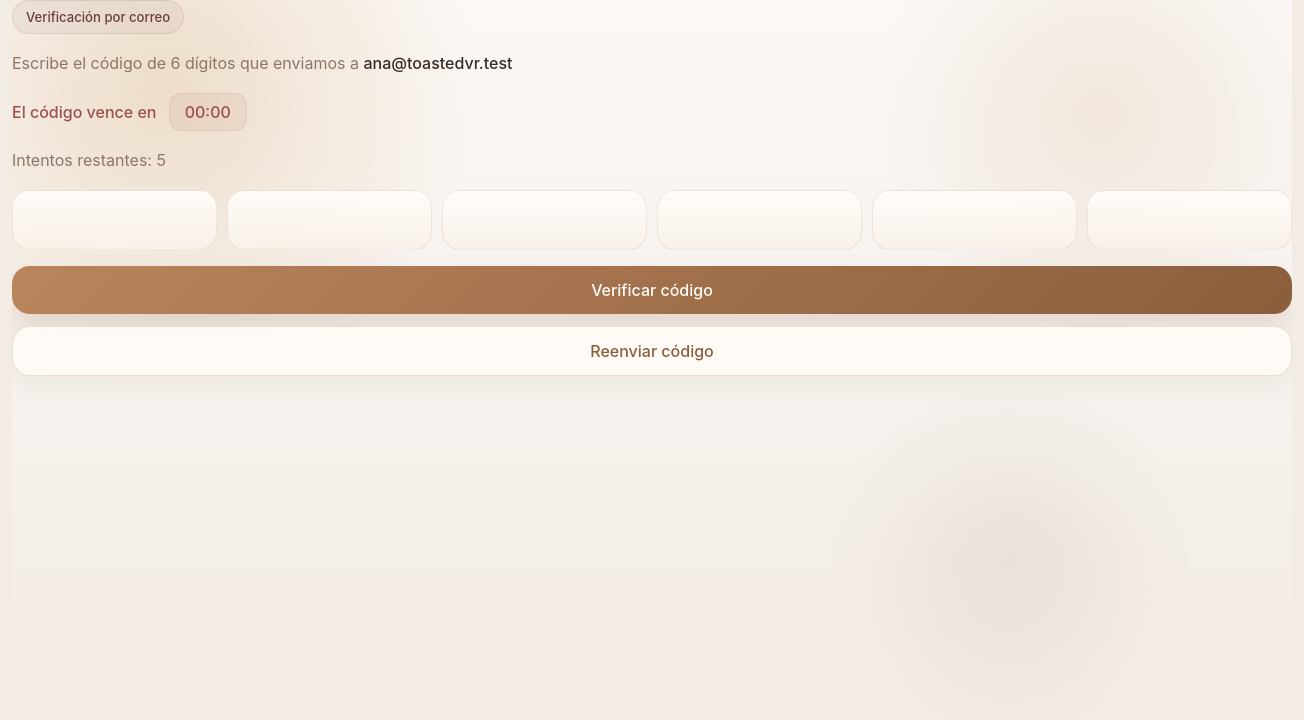
Test: VerificationForm › restarts the countdown and the attempts after a successful resend
Click the button "Reenviar código": (652, 351) [12,326,1292,376]
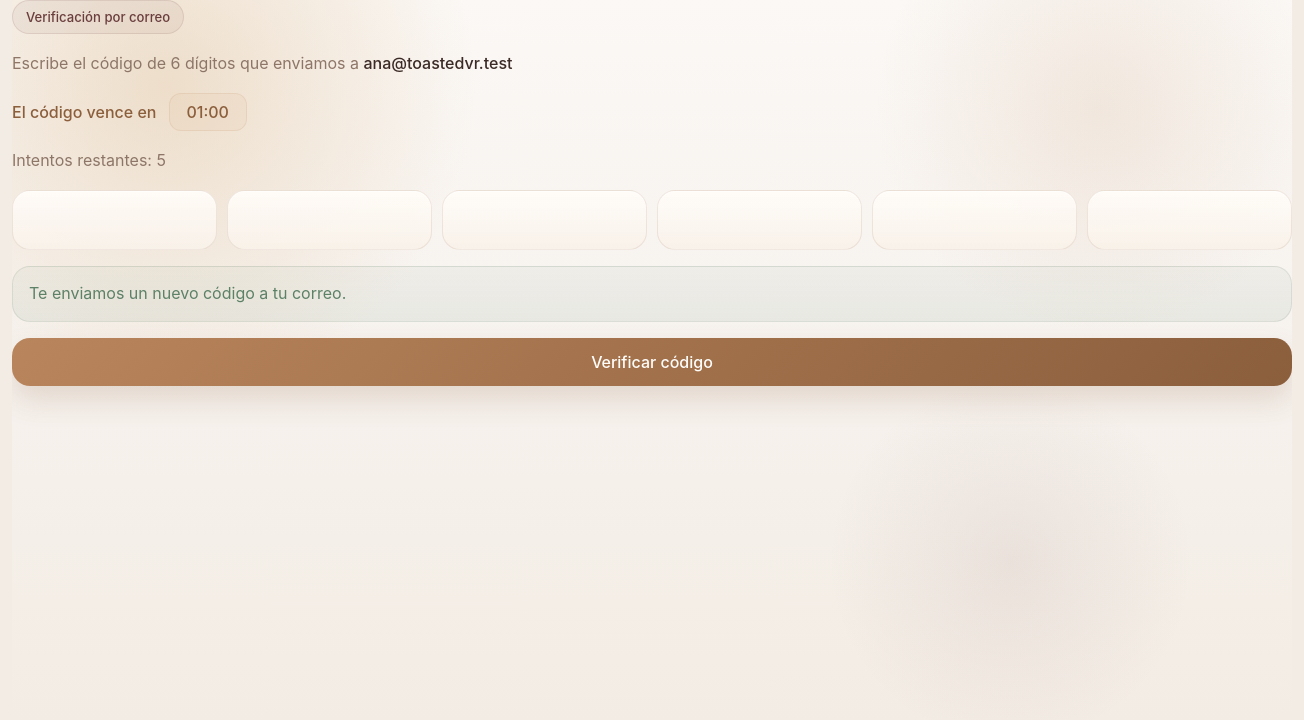
Now the text "Te enviamos un nuevo código a tu correo." is shown, box [12,266,1292,322]
Now the text "01:00" is shown, box [169,93,247,131]
Now the button "Reenviar código" is gone
